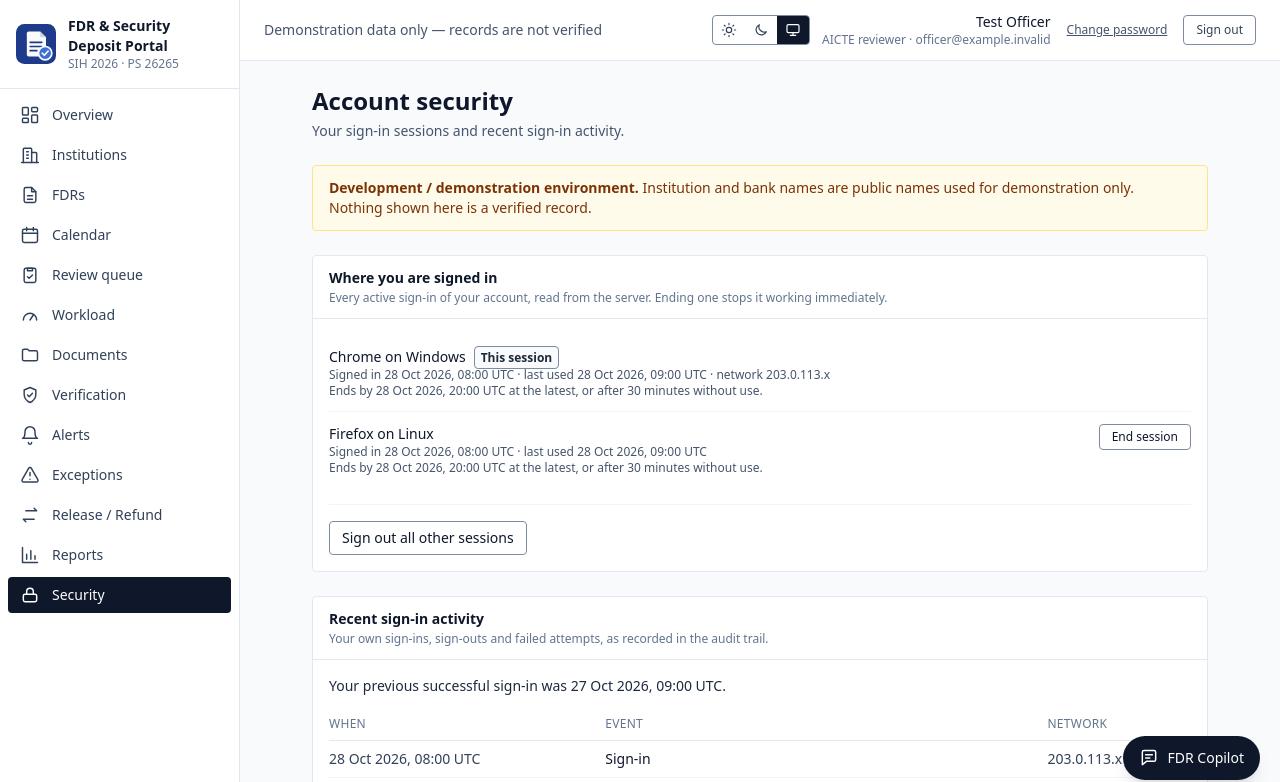
Test case: account security page › explains a failure when the server fails, and nothing is claimed to have ended
Click the button with aria-label "End the Firefox on Linux session": click(1145, 437) [1099,424,1191,450]
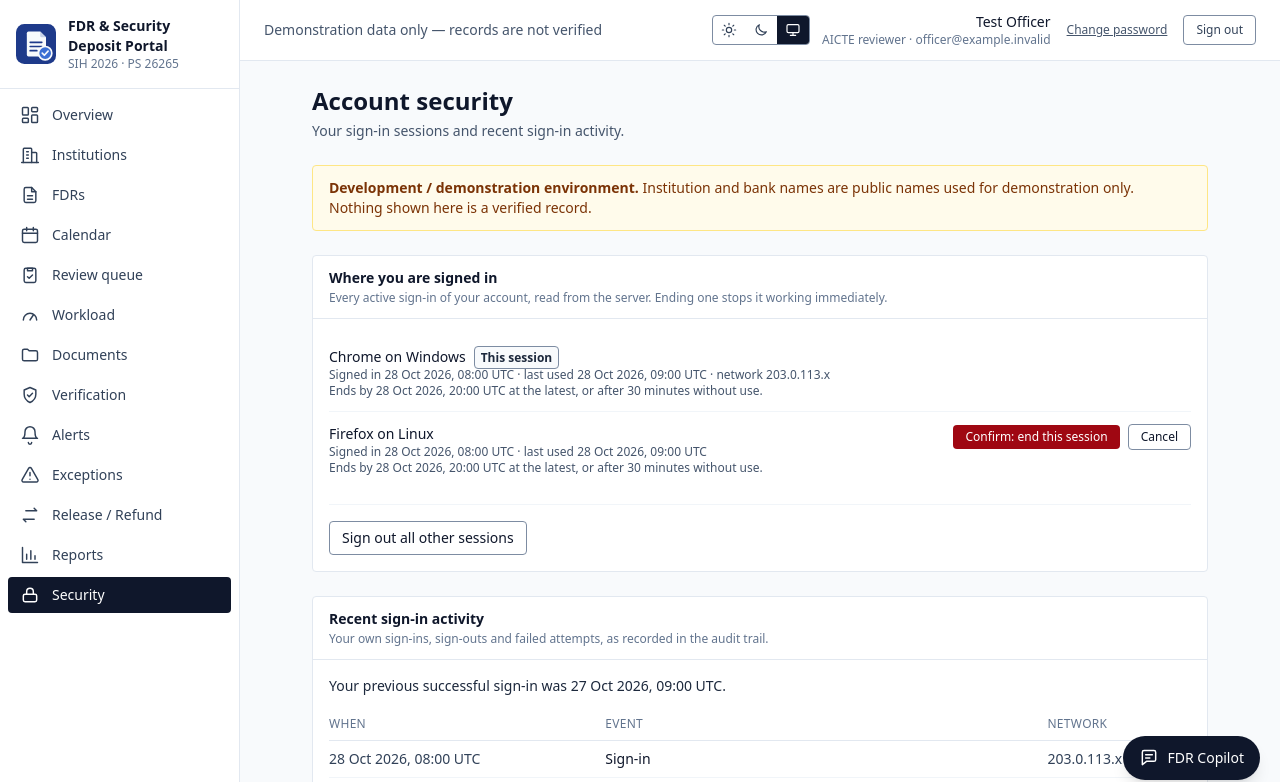
Click the button "Confirm: end this session": click(1037, 437) [954,425,1120,449]
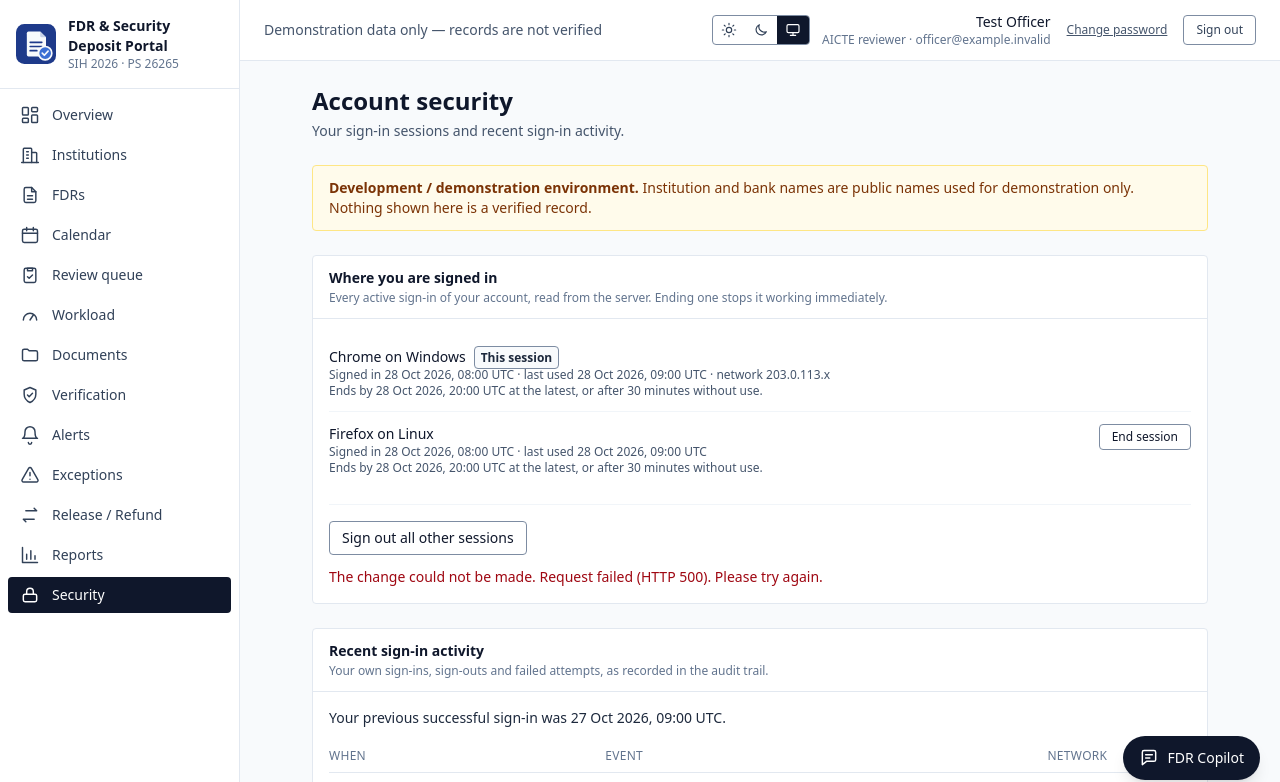
Check: the message shows "could not be made", box [329,567,823,586]
